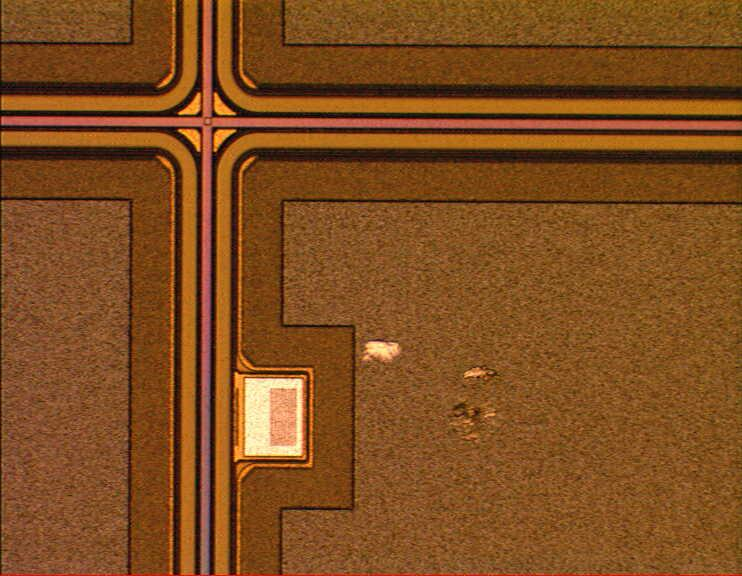SCRATCH: (350, 329, 531, 449)
